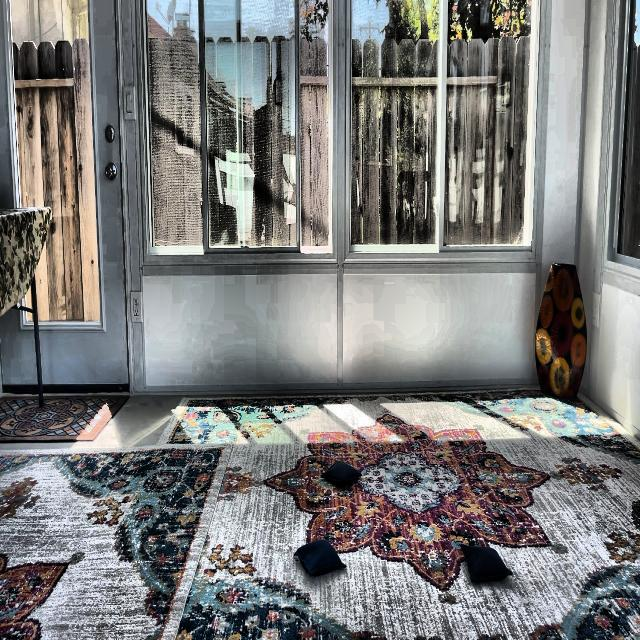blue-bean-bag: (460, 538, 513, 584), (294, 538, 346, 578), (321, 459, 362, 486)
